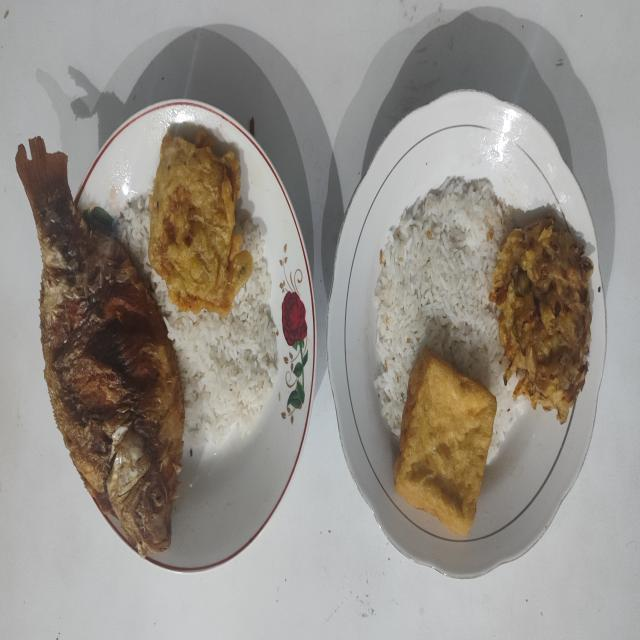ikan_mujair: (16, 137, 185, 556)
nasi_putih: (374, 177, 524, 459), (119, 191, 278, 450)
tahu_goreng: (394, 350, 496, 536)
